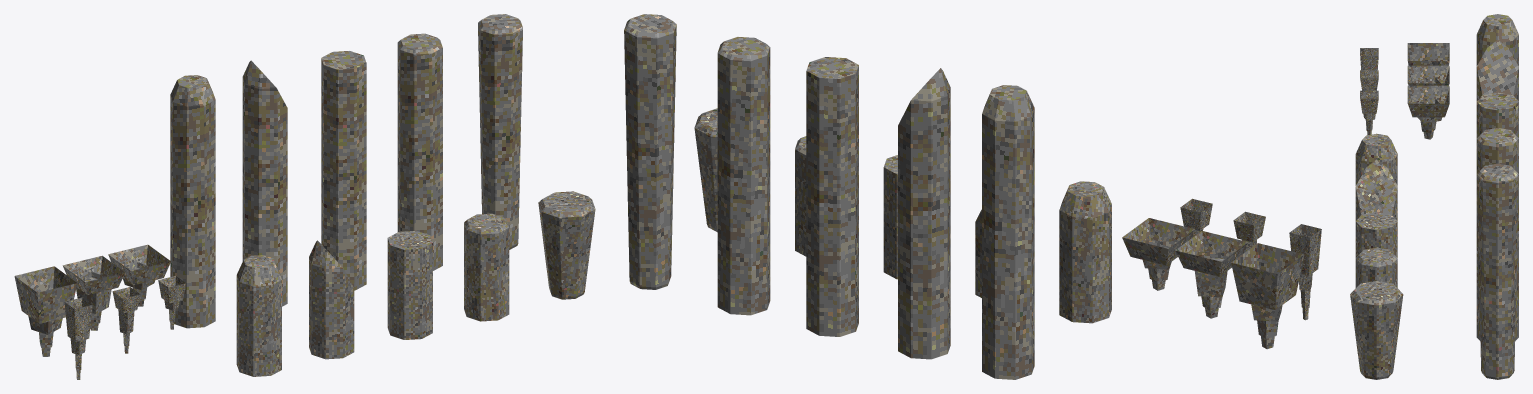
The model's file is 0Rocks.fbx.
3 views of the same model, side by side, from view 1: azimuth 30°, elevation 25°; view 2: azimuth 150°, elevation 25°; view 3: azimuth 270°, elevation 25° (orthographic). The views are drawn at different scales.
Parts seen in each view (by area): view 1: Stone_pillar_L, Stone_pillar_L.002, Stone_pillar_L.003, Stone_pillar_L.004, Stone_pillar_L.001, Stone_pillar, Stone_pillar.004, Stone_pillar.002, Stone_pillar.003, Stone_pillar.001, Dripstones_L, Dripstones_L.001 (+4 smaller); view 2: Stone_pillar_L, Stone_pillar_L.003, Stone_pillar_L.002, Stone_pillar_L.001, Stone_pillar_L.004, Stone_pillar, Dripstones_L, Dripstones_L.001, Dripstones_L.002, Stone_pillar.004, Stone_pillar.002, Dripstones (+3 smaller); view 3: Stone_pillar_L.004, Stone_pillar.004, Stone_pillar_L.003, Stone_pillar.001, Stone_pillar_L.001, Dripstones_L.002, Stone_pillar.002, Stone_pillar_L.002, Stone_pillar.003, Stone_pillar_L, Stone_pillar, Dripstones_L (+4 smaller).
Part boxes in pixels (bbox=[...]): Stone_pillar_L: bbox=[170, 75, 215, 328]; Stone_pillar_L.002: bbox=[321, 51, 366, 290]; Stone_pillar_L.003: bbox=[397, 33, 442, 270]; Stone_pillar_L.004: bbox=[478, 14, 522, 249]; Stone_pillar_L.001: bbox=[242, 60, 287, 306]; Stone_pillar: bbox=[236, 255, 281, 376]; Stone_pillar.004: bbox=[538, 191, 595, 299]; Stone_pillar.002: bbox=[387, 230, 432, 339]; Stone_pillar.003: bbox=[464, 213, 509, 321]; Stone_pillar.001: bbox=[309, 240, 354, 359]; Dripstones_L: bbox=[14, 266, 77, 356]; Dripstones_L.001: bbox=[62, 255, 125, 330]; Stone_pillar_L: bbox=[982, 85, 1034, 379]; Stone_pillar_L.003: bbox=[717, 37, 770, 315]; Stone_pillar_L.002: bbox=[806, 57, 858, 336]; Stone_pillar_L.001: bbox=[898, 68, 950, 359]; Stone_pillar_L.004: bbox=[624, 14, 676, 289]; Stone_pillar: bbox=[1059, 181, 1111, 323]; Dripstones_L: bbox=[1231, 243, 1304, 349]; Dripstones_L.001: bbox=[1175, 231, 1248, 318]; Dripstones_L.002: bbox=[1122, 218, 1195, 290]; Stone_pillar.004: bbox=[694, 108, 717, 232]; Stone_pillar.002: bbox=[883, 155, 897, 279]; Dripstones: bbox=[1289, 224, 1321, 320]; Stone_pillar_L.004: bbox=[1476, 163, 1518, 379]; Stone_pillar.004: bbox=[1350, 281, 1403, 379]; Stone_pillar_L.003: bbox=[1476, 128, 1518, 340]; Stone_pillar.001: bbox=[1355, 159, 1397, 220]; Stone_pillar_L.001: bbox=[1476, 40, 1518, 100]; Dripstones_L.002: bbox=[1407, 85, 1449, 139]; Stone_pillar.002: bbox=[1355, 212, 1397, 257]; Stone_pillar_L.002: bbox=[1476, 92, 1518, 137]; Stone_pillar.003: bbox=[1355, 247, 1397, 287]; Stone_pillar_L: bbox=[1476, 14, 1518, 65]; Stone_pillar: bbox=[1355, 133, 1397, 185]; Dripstones_L: bbox=[1407, 43, 1449, 65].
Size of the model in its own units: 9323 by 4050 by 2781.
1 material, 1 textured.
